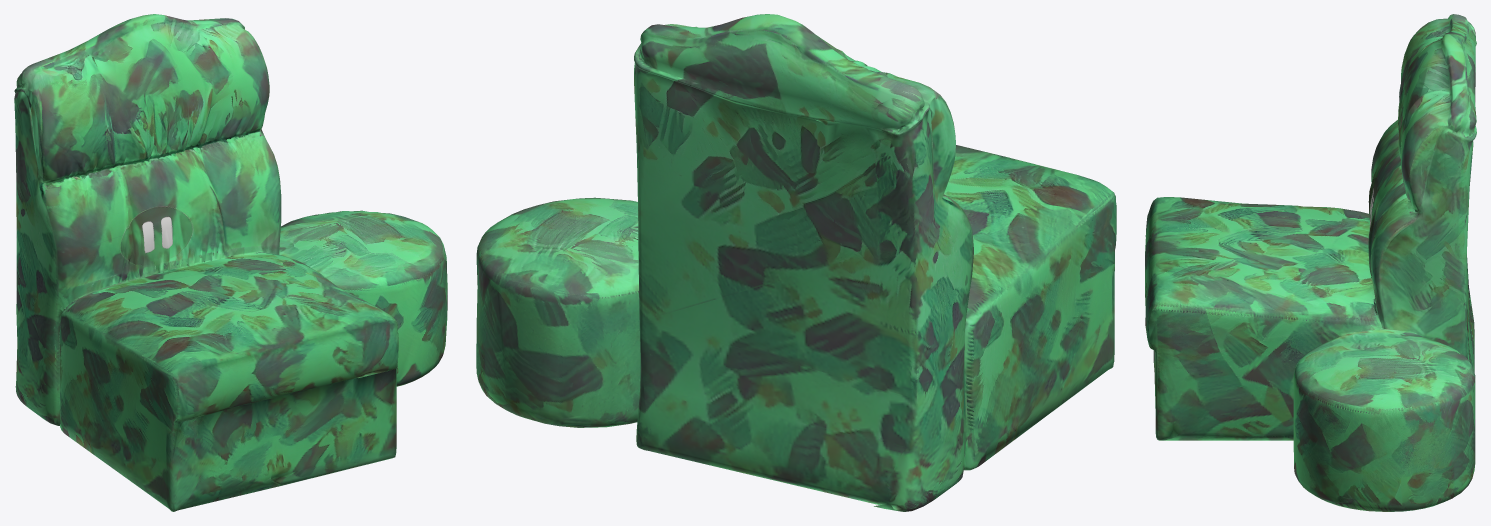
Rendered from chair2.fbx.
3 views of the same model, side by side, from view 1: azimuth 30°, elevation 25°; view 2: azimuth 150°, elevation 25°; view 3: azimuth 270°, elevation 25° (orthographic). The views are drawn at different scales.
Parts seen in each view (by area): view 1: Mesh_0.006; view 2: Mesh_0.006; view 3: Mesh_0.006.
Boxes of the visible parts, x1,y1,x2,y2 form: Mesh_0.006: [14, 14, 447, 511]; Mesh_0.006: [476, 14, 1116, 511]; Mesh_0.006: [1145, 14, 1476, 511].
Size of the model in its own units: 191 by 171 by 146.
1 material, 1 textured.
